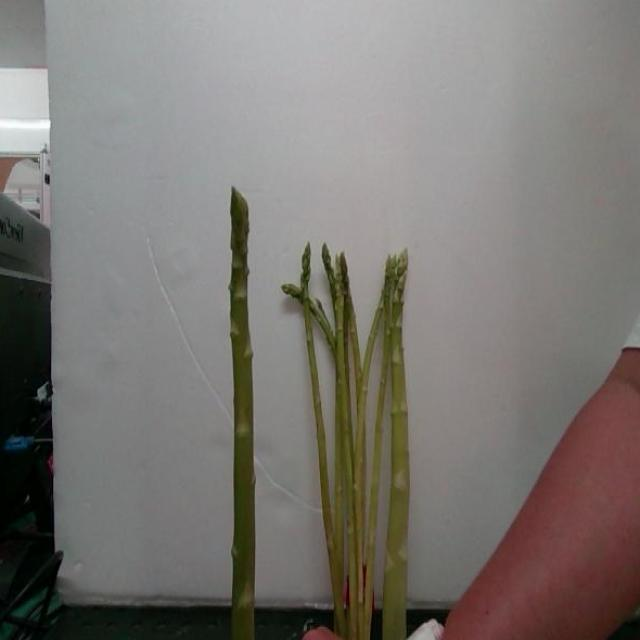aspargus: (300, 240, 349, 640), (227, 189, 255, 640), (381, 246, 411, 640)
